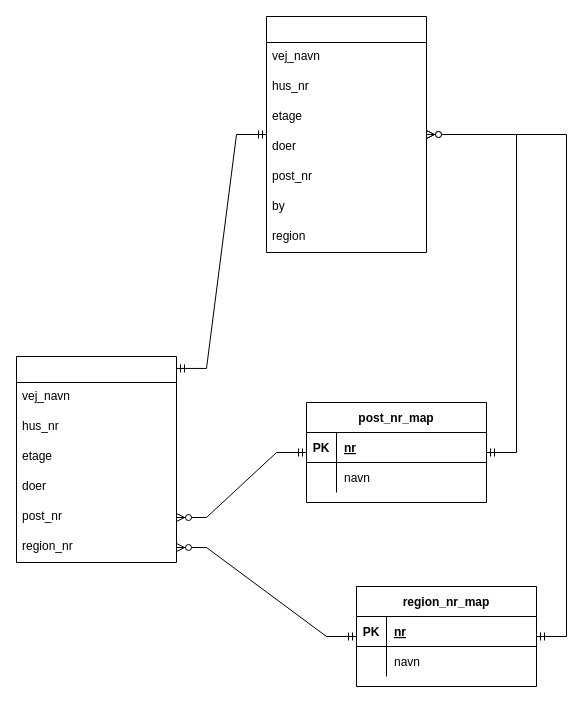
Image size: 583x703. Some labels were removed from this diagram. The shapes that lost their labels are listed below. From the top down, each one's box as (x1, y1, x2, y2) in pixels, then its label:
(266, 16, 426, 252): postkort
(16, 356, 176, 562): adresse
